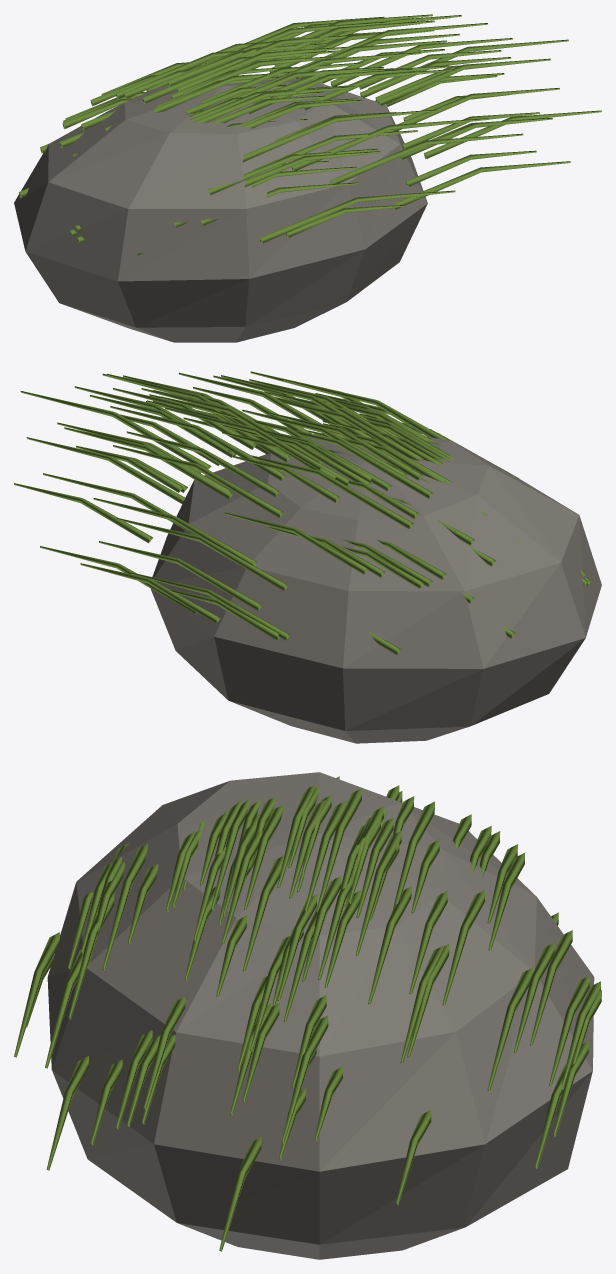
File: lake-nitchatka-shallows-0.glb
3 views of the same model, one above another, from view 1: azimuth 30°, elevation 25°; view 2: azimuth 150°, elevation 25°; view 3: azimuth 270°, elevation 25° (orthographic). The views are drawn at different scales.
Parts seen in each view (by area): view 1: lake-nitchatka-shallows-0; view 2: lake-nitchatka-shallows-0; view 3: lake-nitchatka-shallows-0.
Part boxes in pixels (x1,y1,x2,y2): lake-nitchatka-shallows-0: (14, 14, 601, 342); lake-nitchatka-shallows-0: (14, 371, 601, 743); lake-nitchatka-shallows-0: (14, 772, 601, 1259).
Bounding box in the file's own units: 0.2899 × 0.1311 × 0.1671.
